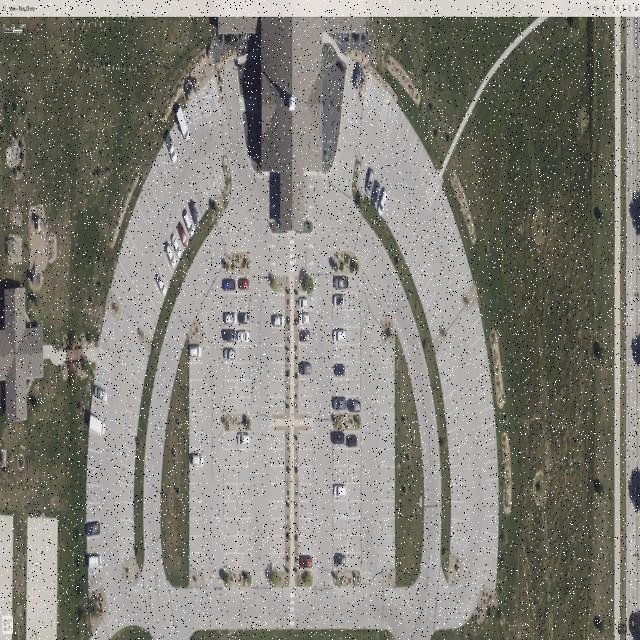Empty: (153, 152, 168, 189), (390, 105, 404, 144), (431, 182, 446, 218), (400, 225, 415, 261), (454, 255, 470, 288), (118, 244, 133, 279), (142, 177, 157, 212), (132, 203, 147, 238), (411, 251, 426, 286), (395, 213, 409, 250), (415, 145, 429, 182), (171, 121, 185, 158), (148, 164, 162, 201), (396, 115, 410, 152), (436, 196, 451, 230), (122, 230, 137, 264), (137, 190, 152, 224), (389, 201, 403, 237), (383, 191, 397, 227), (159, 142, 173, 178), (406, 237, 420, 273), (110, 275, 126, 306), (149, 282, 164, 315), (115, 260, 130, 293), (127, 217, 142, 250), (420, 279, 435, 312), (425, 295, 440, 328), (421, 157, 435, 192), (159, 253, 173, 288), (374, 84, 387, 121), (384, 95, 397, 132), (102, 310, 118, 340), (134, 340, 150, 370), (416, 266, 431, 298), (450, 240, 465, 272), (446, 225, 461, 257), (145, 296, 159, 330), (409, 136, 423, 170), (184, 104, 197, 140), (200, 174, 213, 210), (435, 337, 450, 368), (438, 354, 454, 383), (367, 76, 379, 114), (207, 166, 220, 201), (99, 328, 114, 358), (125, 391, 141, 419), (441, 372, 457, 400), (471, 335, 487, 363), (194, 185, 207, 219), (442, 210, 455, 244), (469, 318, 484, 347), (474, 352, 490, 379), (443, 389, 459, 416), (195, 90, 207, 125), (214, 160, 226, 195), (131, 357, 146, 385), (404, 125, 416, 160), (477, 369, 492, 397), (128, 374, 143, 401), (140, 313, 155, 340), (466, 301, 481, 328), (445, 408, 461, 433), (206, 78, 217, 114), (91, 395, 106, 421), (124, 409, 139, 435), (478, 387, 493, 413), (480, 405, 496, 429), (459, 271, 473, 298), (120, 446, 136, 469), (95, 363, 109, 388), (123, 428, 137, 453), (482, 566, 497, 589), (449, 535, 464, 558), (88, 431, 103, 453), (120, 538, 135, 560), (482, 424, 496, 447), (448, 427, 462, 450), (483, 443, 498, 464), (484, 550, 498, 572), (223, 447, 238, 467), (121, 464, 135, 485), (89, 571, 103, 592), (484, 460, 498, 481), (449, 447, 463, 468), (270, 362, 285, 381), (237, 380, 252, 399), (237, 362, 252, 381), (484, 479, 499, 498), (120, 519, 134, 539), (87, 450, 101, 470), (271, 535, 285, 555), (271, 483, 285, 503), (271, 430, 285, 450), (237, 465, 251, 485), (299, 518, 313, 538), (333, 517, 347, 537), (381, 413, 395, 433), (451, 501, 465, 521), (450, 465, 464, 485), (347, 273, 361, 293), (485, 533, 498, 554), (451, 519, 464, 540), (347, 536, 362, 554), (333, 310, 348, 328), (86, 485, 100, 504), (120, 502, 134, 521), (189, 553, 203, 572), (189, 501, 203, 520), (189, 483, 203, 502), (271, 553, 285, 572), (237, 448, 251, 467), (237, 518, 251, 537), (237, 536, 251, 555), (224, 466, 238, 485), (223, 430, 237, 449), (271, 345, 285, 364), (271, 380, 285, 399), (223, 363, 237, 382), (223, 379, 237, 398), (347, 448, 361, 467), (333, 500, 347, 519), (381, 448, 395, 467), (381, 343, 395, 362), (347, 344, 361, 363), (347, 309, 361, 328), (451, 483, 465, 502), (121, 483, 134, 503), (485, 515, 498, 535), (189, 363, 204, 380), (189, 380, 204, 397), (223, 536, 238, 553), (237, 398, 252, 415), (299, 432, 314, 449), (298, 396, 313, 413), (347, 483, 361, 501), (333, 466, 347, 484), (86, 503, 100, 521), (87, 467, 101, 485), (87, 536, 101, 554), (271, 502, 285, 520), (271, 466, 285, 484), (223, 553, 237, 571), (224, 501, 238, 519), (224, 484, 238, 502), (271, 328, 285, 346), (237, 346, 251, 364), (237, 293, 251, 311), (299, 484, 313, 502), (299, 467, 313, 485), (299, 450, 313, 468), (333, 378, 347, 396), (333, 449, 347, 467), (347, 501, 361, 519), (347, 518, 361, 536), (333, 534, 347, 552), (381, 536, 395, 554), (347, 362, 361, 380), (333, 344, 347, 362), (224, 293, 237, 312), (300, 501, 313, 520), (382, 465, 395, 484), (381, 430, 394, 449), (382, 362, 395, 381), (485, 496, 498, 515), (347, 466, 361, 483), (190, 432, 204, 449), (271, 449, 285, 466), (237, 485, 251, 502), (237, 553, 251, 570), (299, 379, 313, 396), (347, 379, 361, 396), (347, 553, 361, 570), (381, 553, 395, 570), (381, 484, 395, 501), (381, 397, 395, 414), (347, 328, 361, 345), (347, 293, 361, 310), (299, 345, 313, 362), (190, 536, 203, 554), (190, 414, 203, 432), (190, 397, 203, 415), (224, 519, 237, 537), (300, 535, 313, 553), (382, 502, 395, 520), (382, 380, 395, 398), (189, 520, 203, 536), (190, 467, 204, 483), (271, 520, 285, 536), (271, 294, 284, 311), (382, 519, 395, 536), (238, 502, 251, 518), (272, 398, 285, 414), (224, 398, 237, 414)
Parked: (176, 106, 190, 149), (175, 215, 190, 251), (165, 131, 179, 168), (169, 229, 184, 263), (188, 194, 202, 230), (181, 205, 195, 240), (370, 172, 383, 209), (377, 181, 390, 217), (164, 241, 178, 274), (154, 269, 168, 302), (364, 164, 377, 199), (89, 413, 105, 437), (92, 379, 107, 403), (189, 344, 204, 364), (352, 61, 362, 91), (298, 292, 313, 311), (88, 553, 102, 573), (237, 328, 251, 347), (333, 430, 347, 449), (347, 430, 361, 449), (223, 274, 237, 293), (299, 552, 313, 571), (86, 521, 101, 538), (333, 292, 347, 310), (333, 362, 347, 380), (299, 362, 313, 380), (299, 327, 313, 345), (299, 310, 313, 328), (223, 328, 237, 346), (223, 346, 237, 364), (189, 449, 203, 467), (237, 432, 251, 450), (333, 484, 347, 502), (237, 311, 251, 329), (333, 274, 347, 292), (222, 312, 237, 328), (333, 327, 347, 344), (237, 276, 251, 293), (347, 397, 361, 414), (333, 396, 347, 413), (333, 553, 347, 569), (271, 311, 284, 328)
